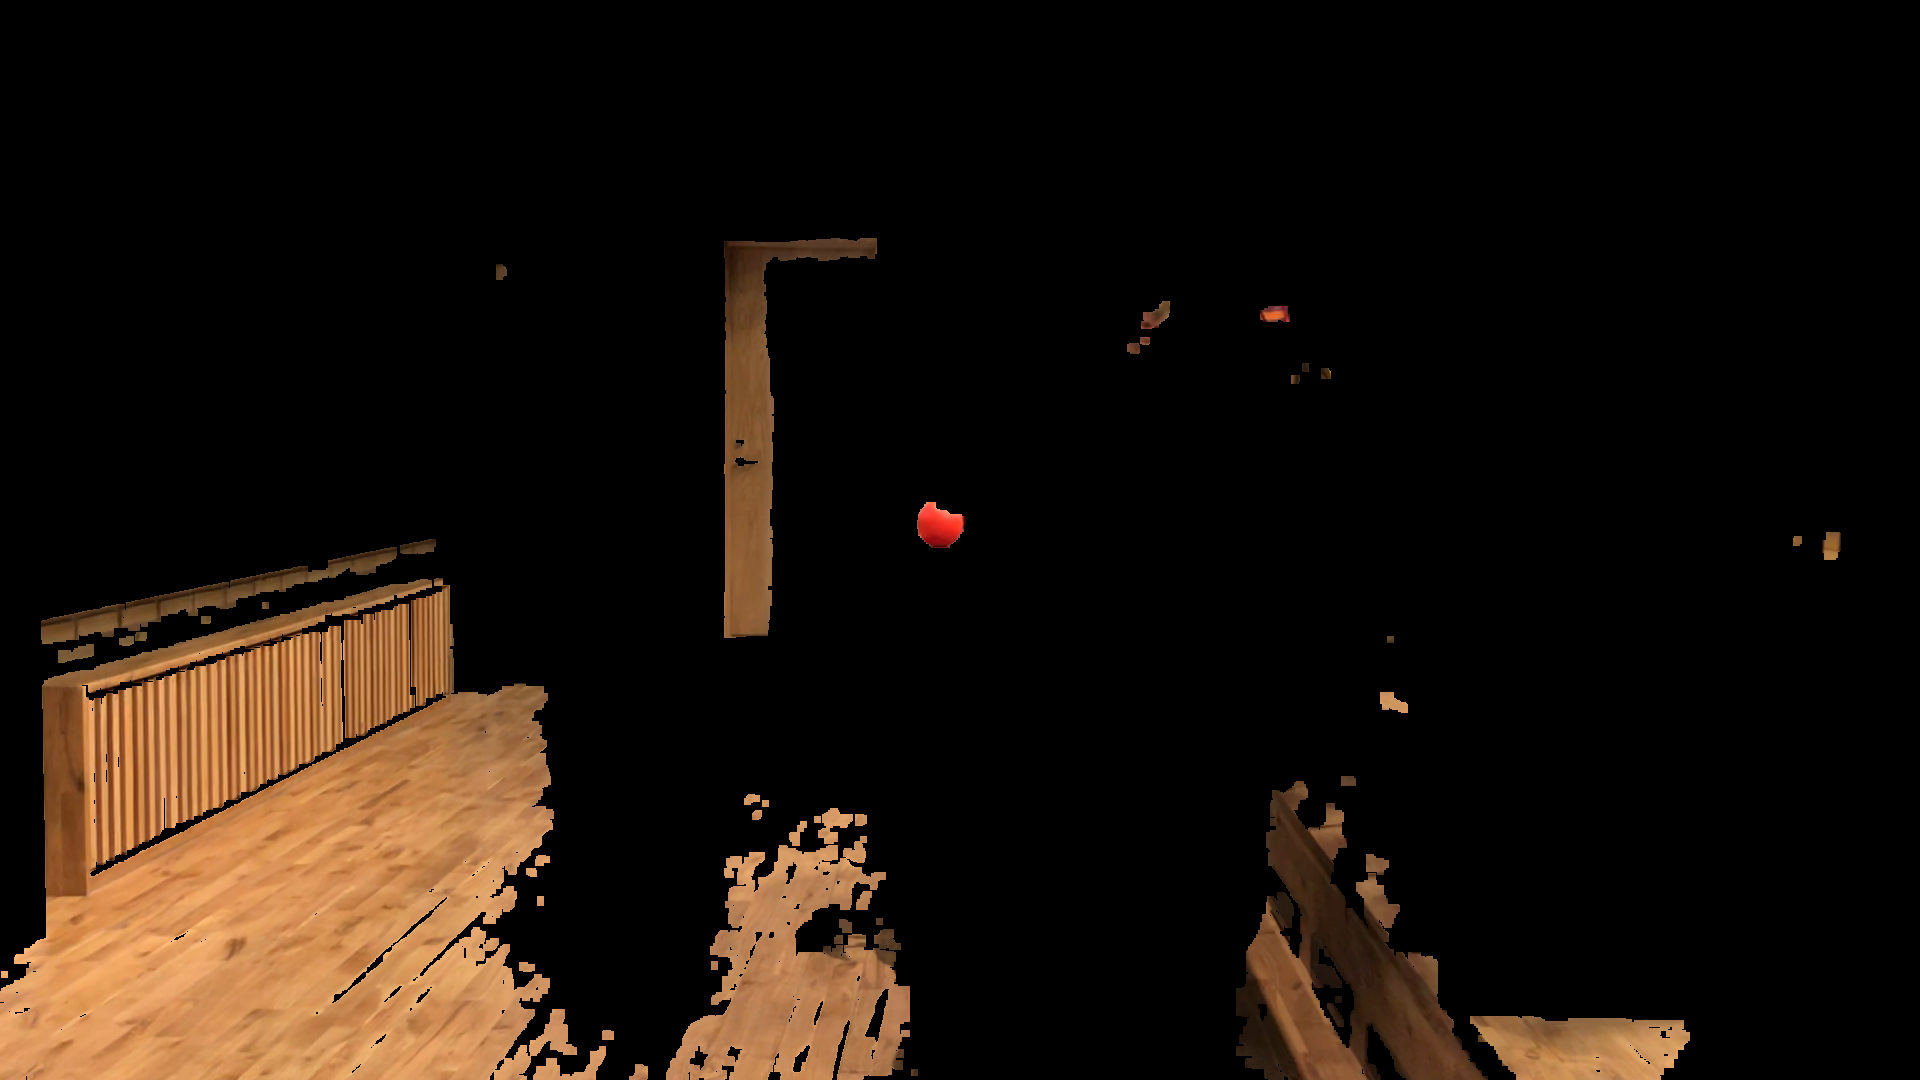Ball: (919, 500, 969, 550)
